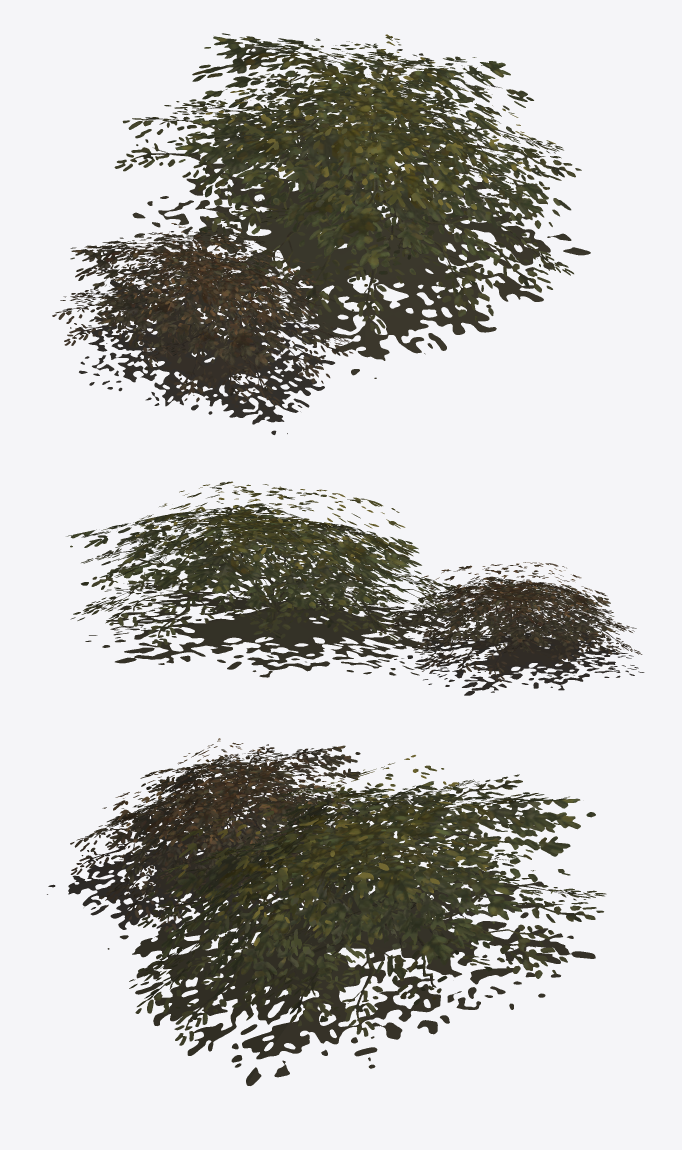
The model's file is plants_bushes11.fbx.
The picture shows the model from 3 angles, top to bottom: view 1: azimuth 30°, elevation 25°; view 2: azimuth 150°, elevation 25°; view 3: azimuth 270°, elevation 25°; orthographic projection. The views are drawn at different scales.
Visible parts, largest first — view 1: obj1.049; view 2: obj1.049; view 3: obj1.049.
Part boxes in pixels (box(x1,y1,x2,y2)): obj1.049: box(52, 33, 590, 434); obj1.049: box(66, 481, 644, 695); obj1.049: box(47, 738, 606, 1085).
Bounding box in the file's own units: 7.05 × 2.09 × 5.95.
